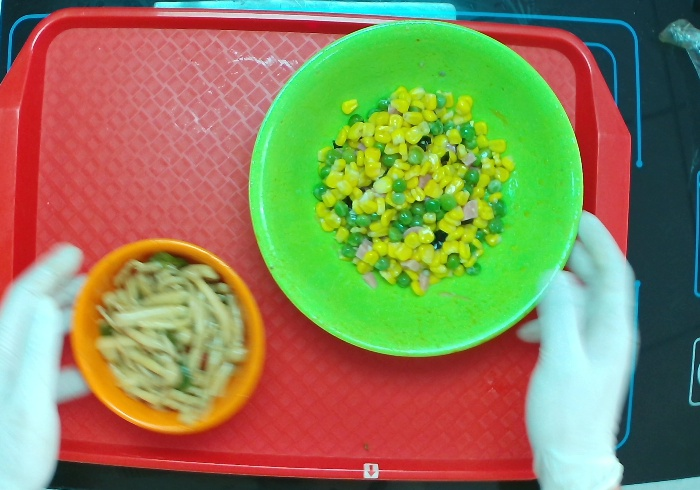YKMZ-Ju_Se_Yuan_Wan: (63, 233, 270, 444)
YKMZ-Lv_Se_Tang_Wan: (241, 16, 592, 360)
